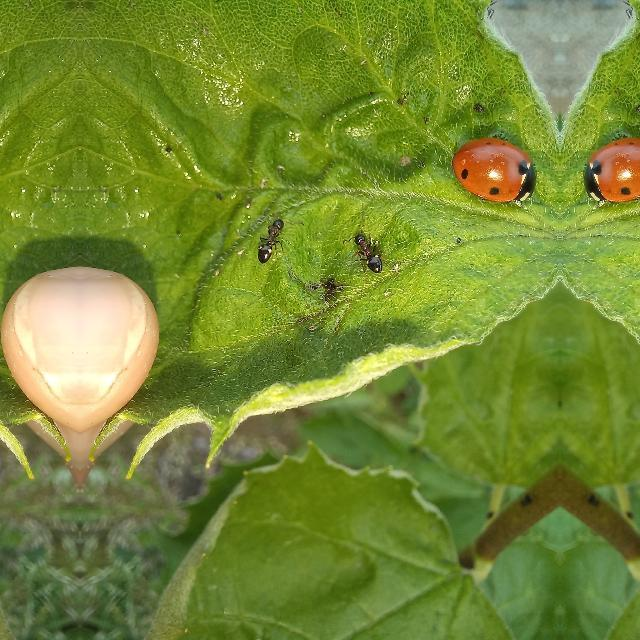Dolichoderus: (348, 223, 388, 280), (253, 207, 289, 266)
